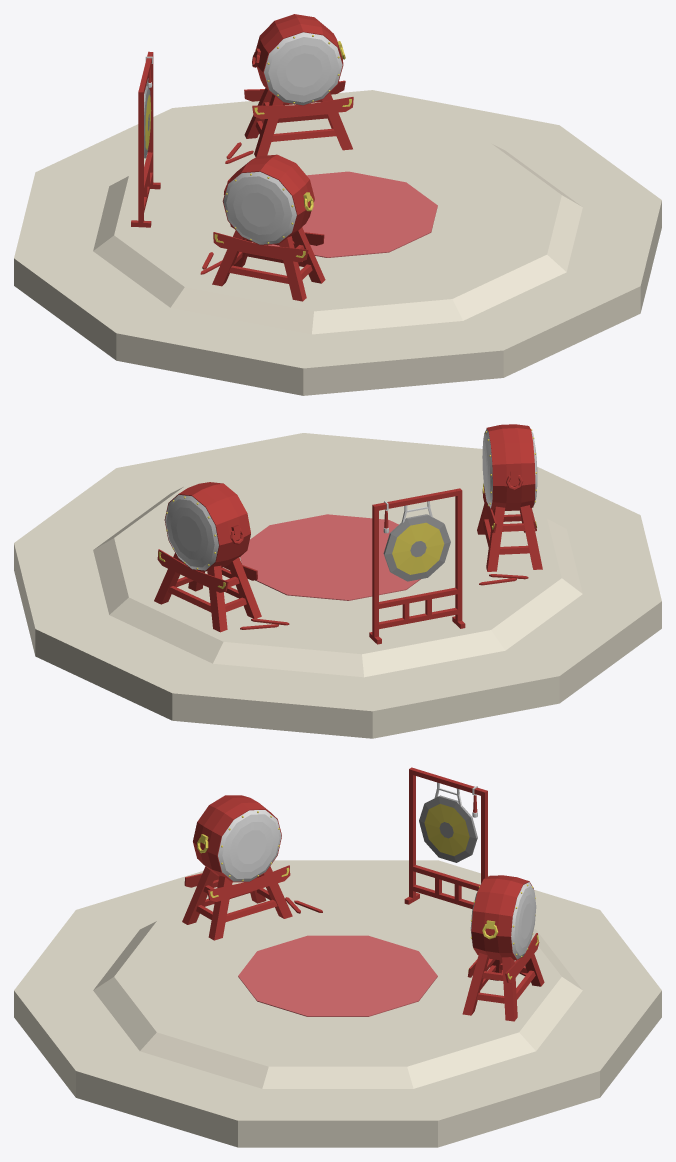
File: Orta_Alan.fbx
3 renders of one model, top to bottom at view 1: azimuth 30°, elevation 25°; view 2: azimuth 150°, elevation 25°; view 3: azimuth 270°, elevation 25°, orthographic. The views are drawn at different scales.
Parts seen in each view (by area): view 1: Cylinder, Torus, Torus.002, Cylinder.002, Cube.006; view 2: Cylinder, Cylinder.002, Torus.002, Cube.006, Torus; view 3: Cylinder, Cylinder.002, Torus, Torus.002, Cube.006.
Part boxes in pixels (bbox=[...]): Cylinder: bbox=[14, 90, 661, 395]; Torus: bbox=[212, 154, 325, 301]; Torus.002: bbox=[244, 14, 353, 157]; Cylinder.002: bbox=[267, 171, 437, 257]; Cube.006: bbox=[131, 51, 160, 227]; Cylinder: bbox=[14, 433, 661, 738]; Cylinder.002: bbox=[240, 514, 420, 600]; Torus.002: bbox=[154, 482, 261, 632]; Cube.006: bbox=[369, 488, 465, 644]; Torus: bbox=[477, 424, 542, 571]; Cylinder: bbox=[14, 860, 661, 1147]; Cylinder.002: bbox=[238, 935, 437, 1016]; Torus: bbox=[182, 795, 292, 940]; Torus.002: bbox=[462, 875, 544, 1021]; Cube.006: bbox=[404, 767, 487, 909].
Bounding box in the file's own units: 786 × 244 × 826.
